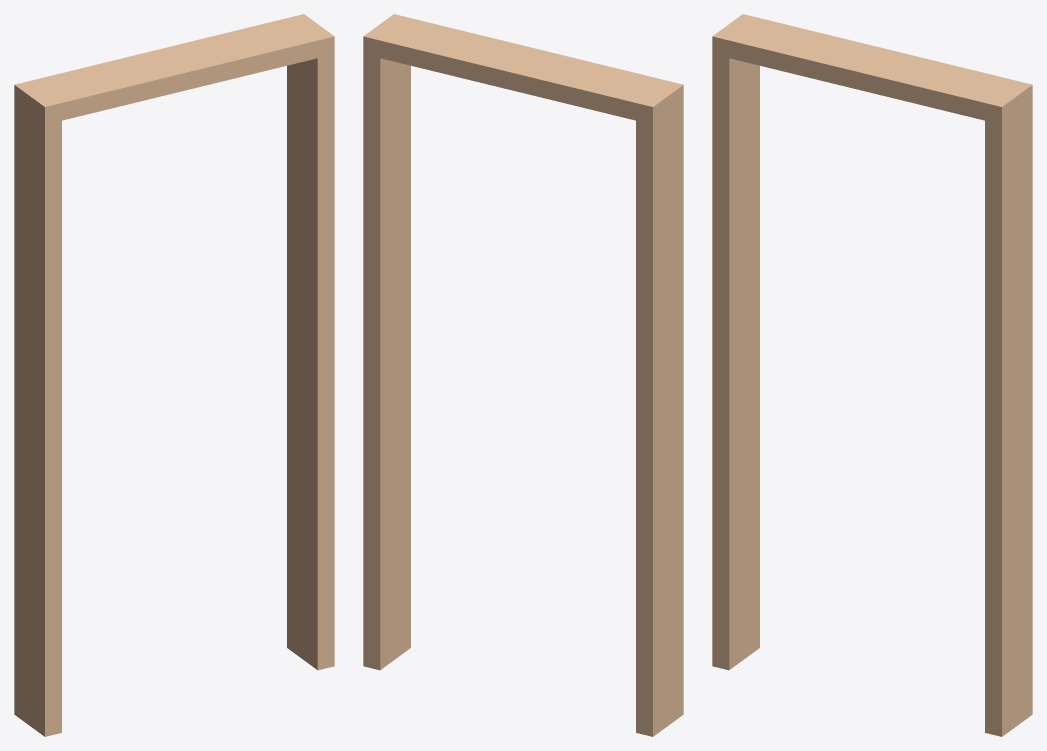
Rendered from doorwayOpen.glb.
3 renders of one model, left to right at view 1: azimuth 30°, elevation 25°; view 2: azimuth 150°, elevation 25°; view 3: azimuth 330°, elevation 25°, orthographic.
Parts seen in each view (by area): view 1: doorwayOpen(Clone); view 2: doorwayOpen(Clone); view 3: doorwayOpen(Clone).
Part boxes in pixels (x1,y1,x2,y2): doorwayOpen(Clone): (14,14,334,736); doorwayOpen(Clone): (363,14,683,736); doorwayOpen(Clone): (712,14,1032,736).
Bounding box in the file's own units: 0.9866 × 2.05 × 0.1809.
Materials: 1 (1 with a texture image).
